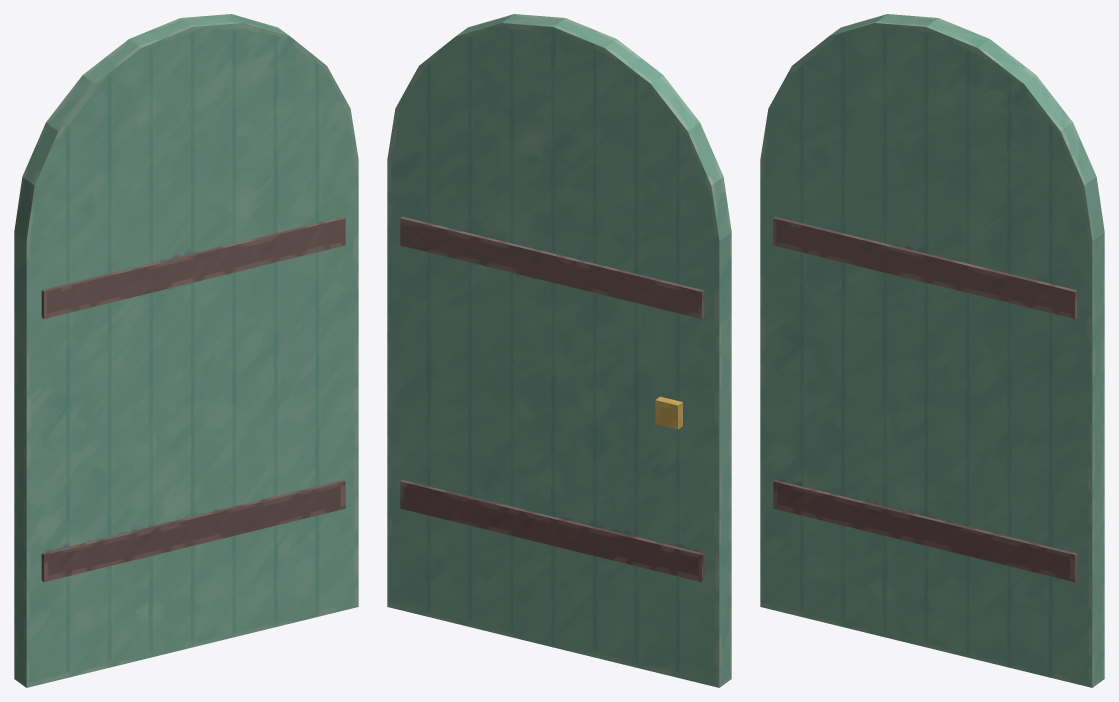
Rendered from door2_teal.bundle.fbx.
3 renders of one model, left to right at view 1: azimuth 30°, elevation 25°; view 2: azimuth 150°, elevation 25°; view 3: azimuth 330°, elevation 25°, orthographic.
Visible parts, largest first — view 1: door2_teal, door2_teal_s02, door2_teal_s04, door2_teal_s01, door2_teal_s00, door2_teal_s05; view 2: door2_teal, door2_teal_s05, door2_teal_s01, door2_teal_s02, door2_teal_s03, door2_teal_s00, door2_teal_s04; view 3: door2_teal, door2_teal_s05, door2_teal_s00, door2_teal_s03, door2_teal_s01, door2_teal_s02, door2_teal_s04.
Part boxes in pixels (left/top/right/bottom): door2_teal: left=14, top=14, right=358, bottom=687; door2_teal_s02: left=32, top=14, right=257, bottom=256; door2_teal_s04: left=14, top=161, right=160, bottom=463; door2_teal_s01: left=225, top=18, right=358, bottom=233; door2_teal_s00: left=139, top=450, right=358, bottom=658; door2_teal_s05: left=14, top=256, right=227, bottom=686; door2_teal: left=387, top=14, right=731, bottom=687; door2_teal_s05: left=510, top=254, right=731, bottom=687; door2_teal_s01: left=387, top=20, right=567, bottom=255; door2_teal_s02: left=490, top=14, right=710, bottom=257; door2_teal_s03: left=387, top=234, right=524, bottom=508; door2_teal_s00: left=387, top=386, right=580, bottom=648; door2_teal_s04: left=587, top=161, right=731, bottom=468; door2_teal: left=760, top=14, right=1104, bottom=687; door2_teal_s05: left=760, top=244, right=970, bottom=633; door2_teal_s00: left=870, top=464, right=1104, bottom=687; door2_teal_s03: left=956, top=293, right=1104, bottom=522; door2_teal_s01: left=914, top=48, right=1104, bottom=313; door2_teal_s02: left=780, top=23, right=1001, bottom=243; door2_teal_s04: left=760, top=95, right=880, bottom=354.
Bounding box in the file's own units: 4.36 × 7.78 × 0.49.
Materials: 1 (1 with a texture image).
